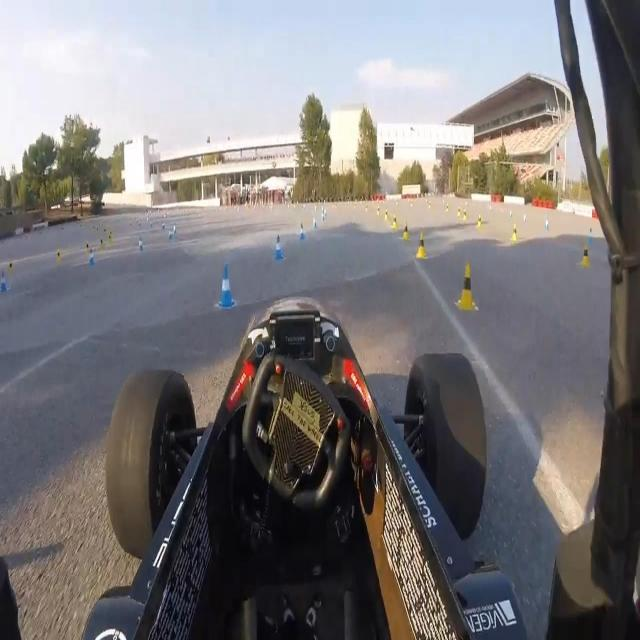blue_cone: (217, 263, 234, 310), (272, 233, 286, 262), (1, 267, 10, 290), (587, 227, 594, 248), (300, 221, 306, 243), (88, 247, 94, 267), (544, 216, 551, 233), (168, 228, 174, 246), (312, 215, 318, 230), (138, 236, 143, 253), (173, 220, 178, 237)
yellow_cone: (456, 263, 476, 313), (579, 242, 591, 267), (416, 233, 426, 260), (402, 222, 412, 240), (511, 223, 519, 241), (8, 260, 14, 280), (392, 215, 399, 232), (56, 248, 63, 265), (84, 240, 90, 256), (456, 204, 462, 218), (478, 212, 482, 230), (463, 208, 468, 222), (385, 208, 390, 221), (100, 237, 105, 250), (446, 202, 450, 212), (377, 206, 380, 217)
